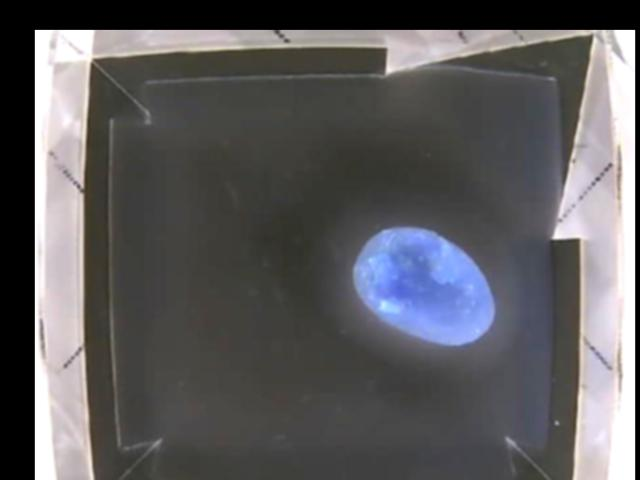Potato: (352, 228, 496, 347)
